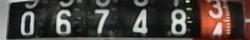digits: (52, 8, 72, 36), (170, 8, 186, 34), (93, 8, 110, 32), (131, 8, 148, 32), (208, 18, 225, 40), (20, 10, 35, 34)
